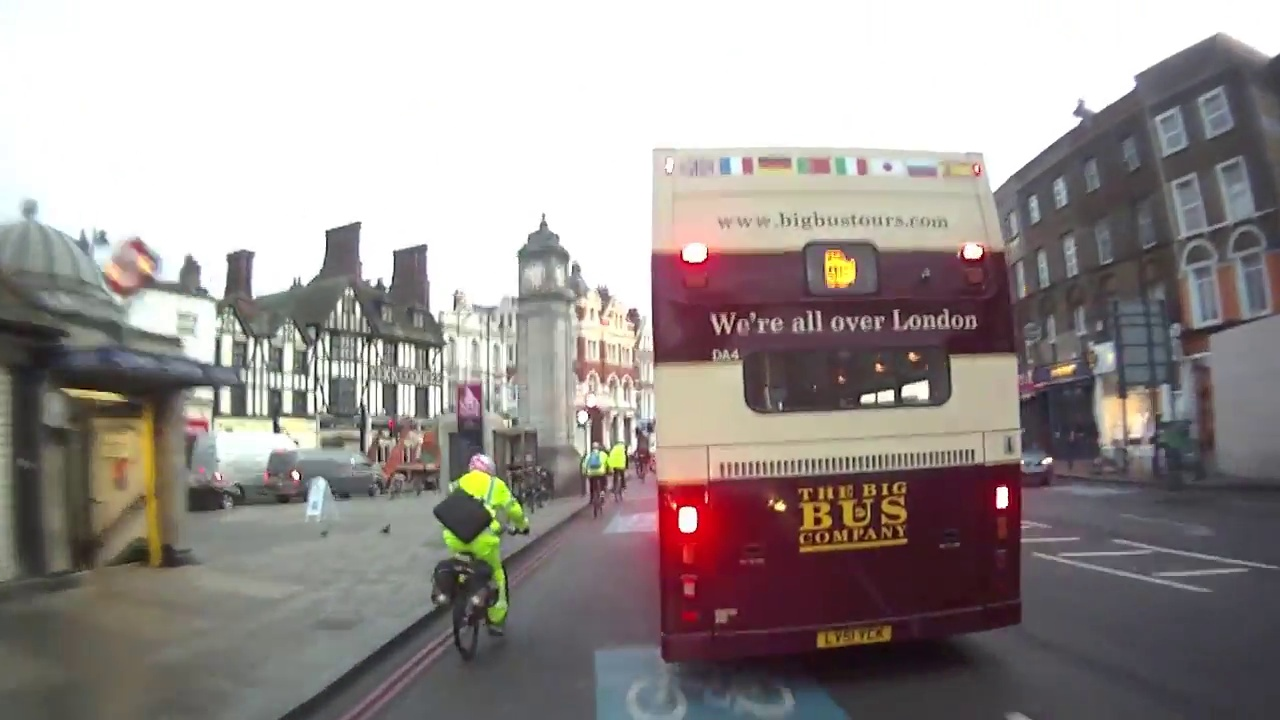cyclist_back: (434, 446, 521, 658), (582, 439, 609, 515), (606, 439, 633, 504)
